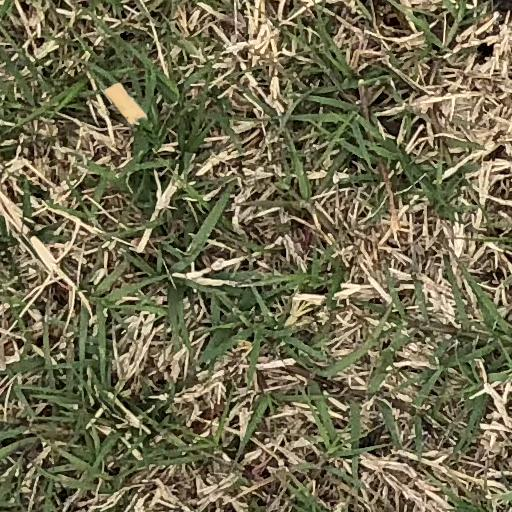smoke: (105, 83, 146, 124)
